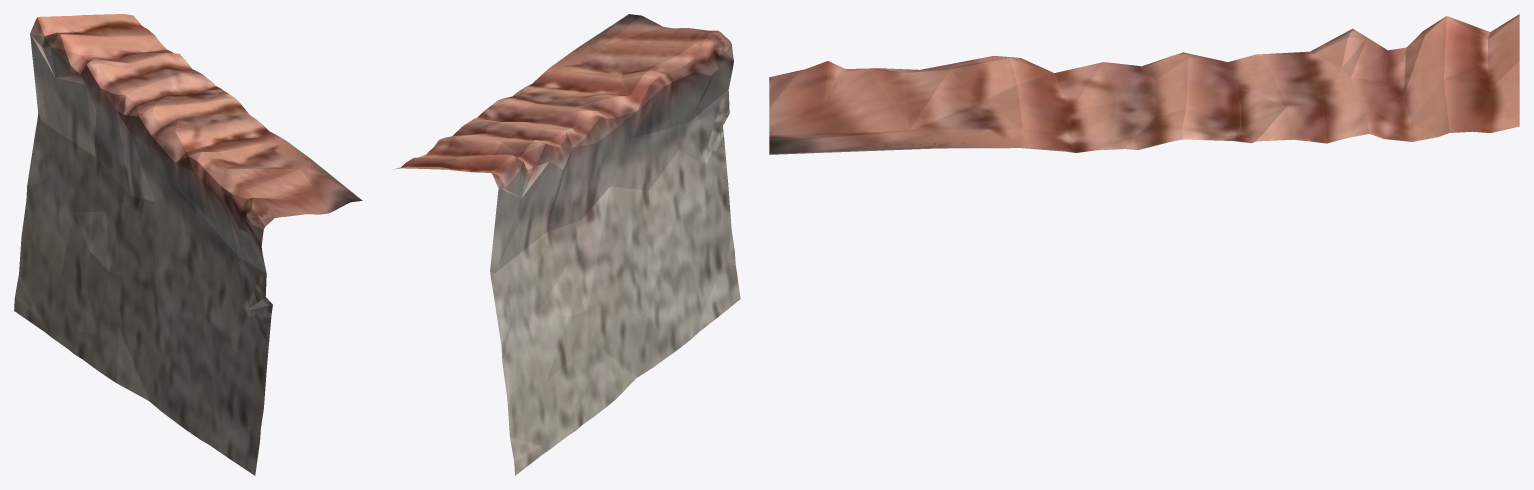
3 views of the same model, side by side, from view 1: azimuth 30°, elevation 25°; view 2: azimuth 150°, elevation 25°; view 3: azimuth 270°, elevation 25° (orthographic). The views are drawn at different scales.
Size of the model in its own units: 0.5033 by 1.16 by 1.67.
Materials: 2 (2 with a texture image).
